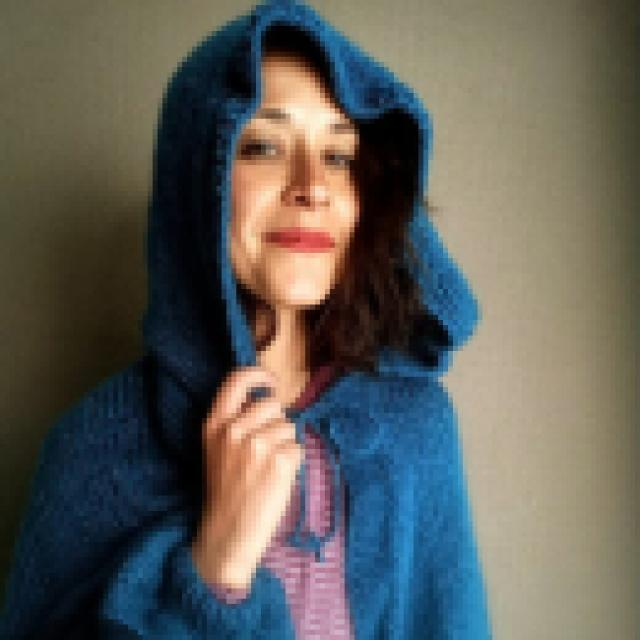4_capucha: (146, 0, 480, 386)
